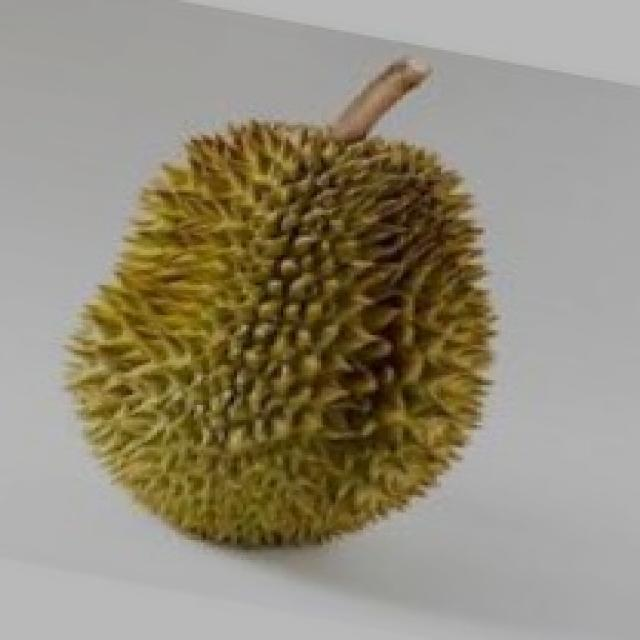fruit: (16, 240, 384, 592)
